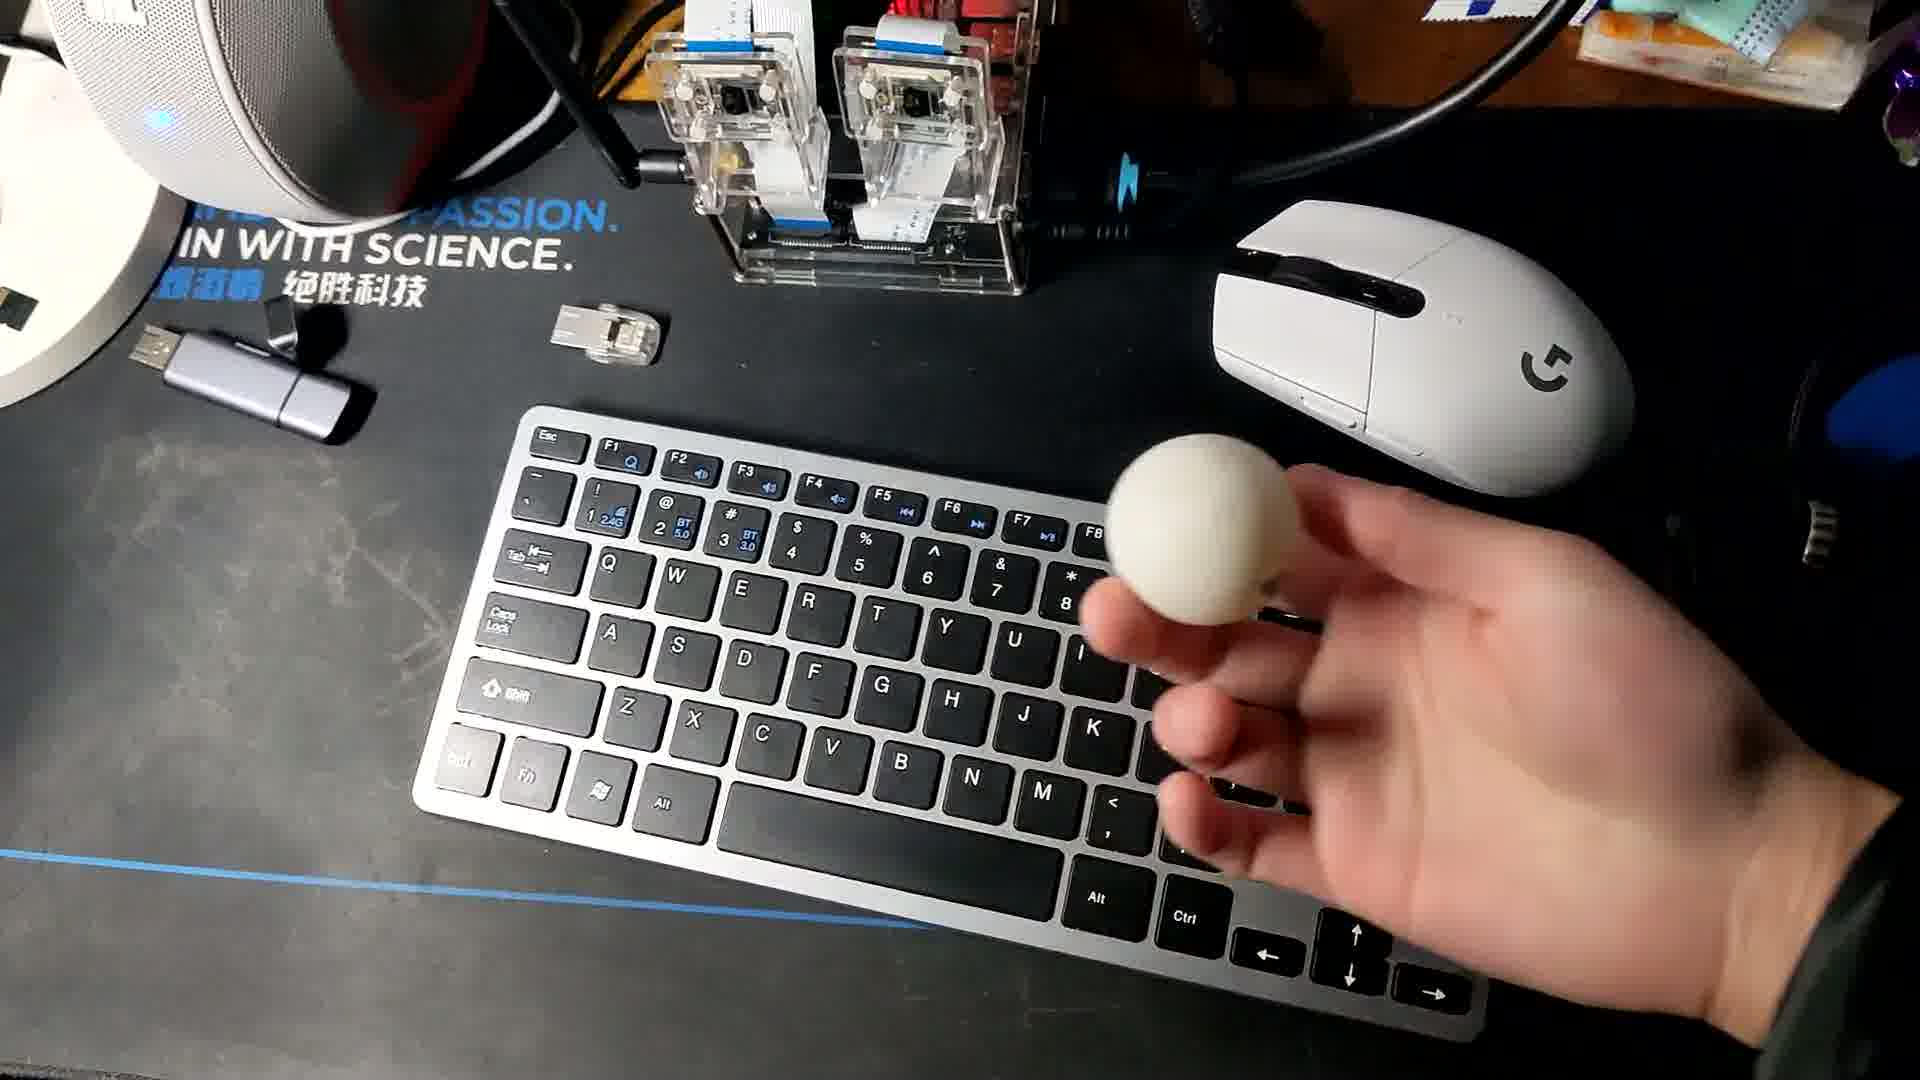Ball: (1102, 433, 1305, 636)
